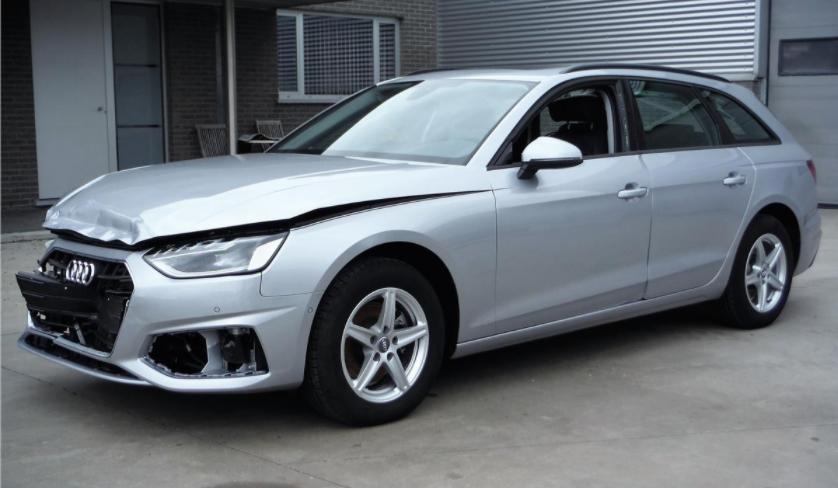Back-bumper: (793, 211, 821, 275)
Back-door: (622, 77, 756, 300)
Back-wheel: (731, 217, 793, 327)
Back-window: (624, 81, 720, 149), (697, 88, 779, 144)
Fender: (260, 191, 497, 343)
Front-bumper: (21, 238, 327, 391)
Front-door: (487, 77, 652, 334)
Front-wheel: (312, 259, 445, 428)
Front-window: (492, 78, 638, 166)
Grille: (16, 249, 134, 357)
Headlight: (143, 231, 289, 278)
Hood: (44, 152, 492, 245)
Mirror: (517, 136, 582, 180)
Quarter-panel: (717, 143, 817, 275)
Rocker-panel: (451, 273, 730, 358)
Roof: (381, 69, 566, 83)
Tail-light: (807, 161, 815, 180)
Windshield: (266, 79, 540, 168)
